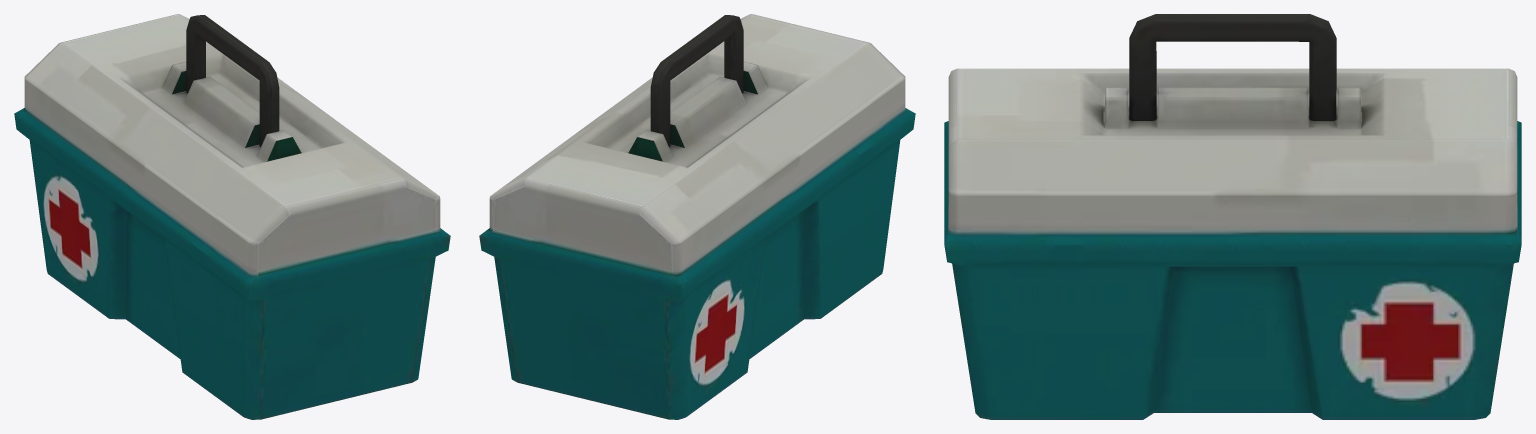
The picture shows the model from 3 angles, left to right: view 1: azimuth 30°, elevation 25°; view 2: azimuth 150°, elevation 25°; view 3: azimuth 270°, elevation 25°; orthographic projection. The views are drawn at different scales.
Visible parts, largest first — view 1: body0_model0_lod0_mesh0; view 2: body0_model0_lod0_mesh0; view 3: body0_model0_lod0_mesh0.
Boxes of the visible parts, x1,y1,x2,y2 form: body0_model0_lod0_mesh0: (14,14,450,419); body0_model0_lod0_mesh0: (479,14,915,419); body0_model0_lod0_mesh0: (944,14,1521,419).
Bounding box in the file's own units: 16.67 × 22.55 × 33.52.
1 material, 1 textured.
